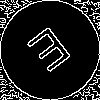E: (25, 25, 79, 82)
